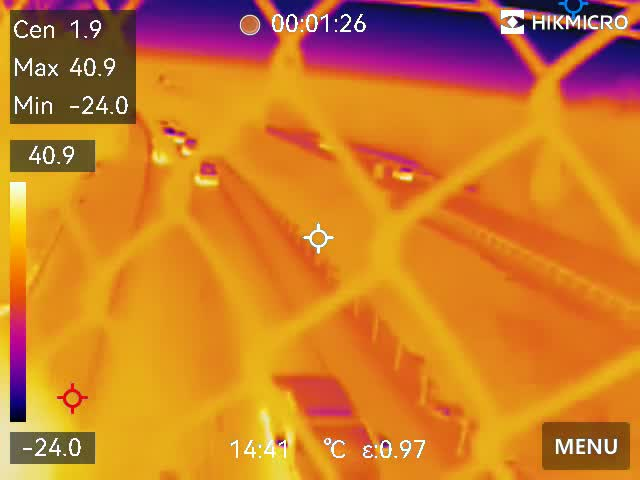vehicle: (249, 366, 378, 480), (192, 158, 227, 186), (390, 167, 417, 184), (179, 139, 204, 157), (170, 127, 189, 142), (156, 122, 176, 136)
